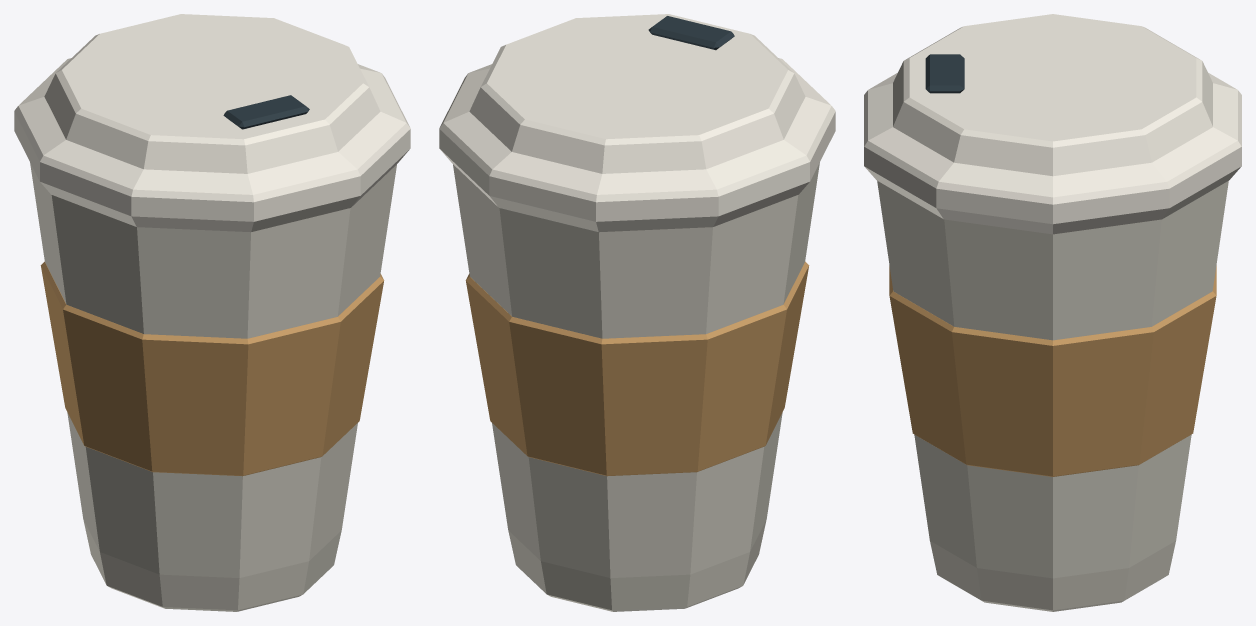
File: b16_takeaway_coffee_cup.glb
The picture shows the model from 3 angles, left to right: view 1: azimuth 30°, elevation 25°; view 2: azimuth 150°, elevation 25°; view 3: azimuth 270°, elevation 25°; orthographic projection.
Visible parts, largest first — view 1: b16_takeaway_coffee_cup; view 2: b16_takeaway_coffee_cup; view 3: b16_takeaway_coffee_cup.
Part boxes in pixels (x1=…): b16_takeaway_coffee_cup: x1=14, y1=14, x2=410, y2=611; b16_takeaway_coffee_cup: x1=439, y1=14, x2=835, y2=611; b16_takeaway_coffee_cup: x1=864, y1=14, x2=1241, y2=611.
Bounding box in the file's own units: 0.092 × 0.126 × 0.0875.
